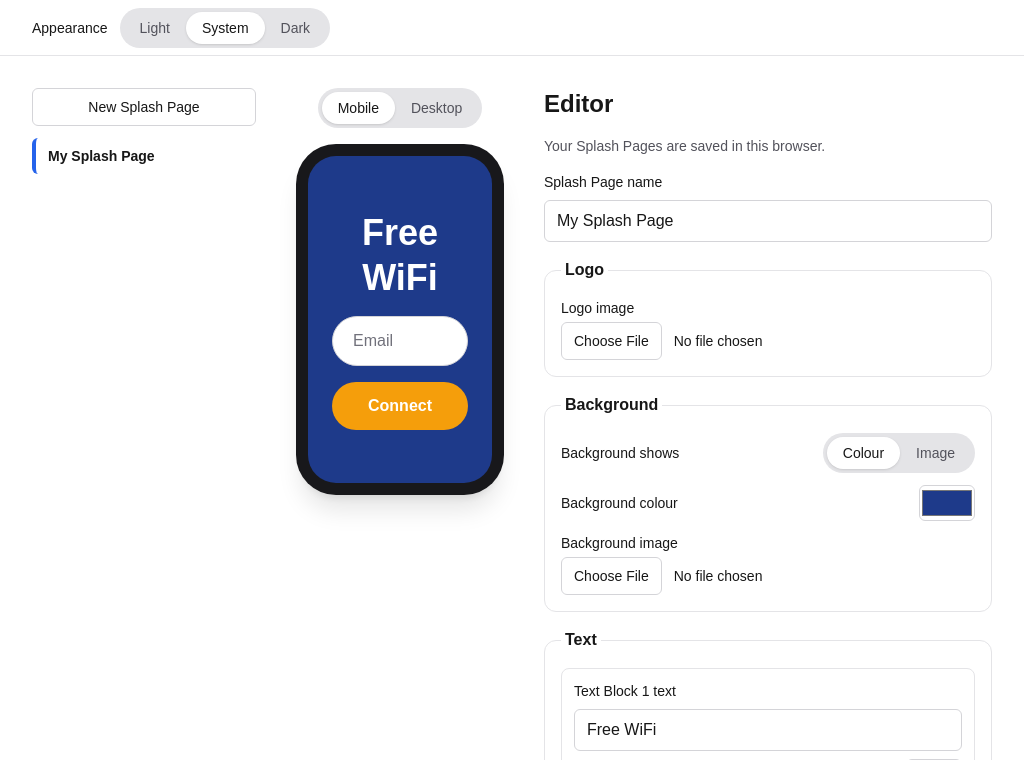
Test case: Captivator: the Library › an edit to a new Splash Page is still there after opening the first Splash Page and then the new one again, and the Device stays the same
The width and height of the screenshot is (1024, 760).
Click the radio button labelled "Desktop". click: [437, 108]
box: [395,92,478,124]
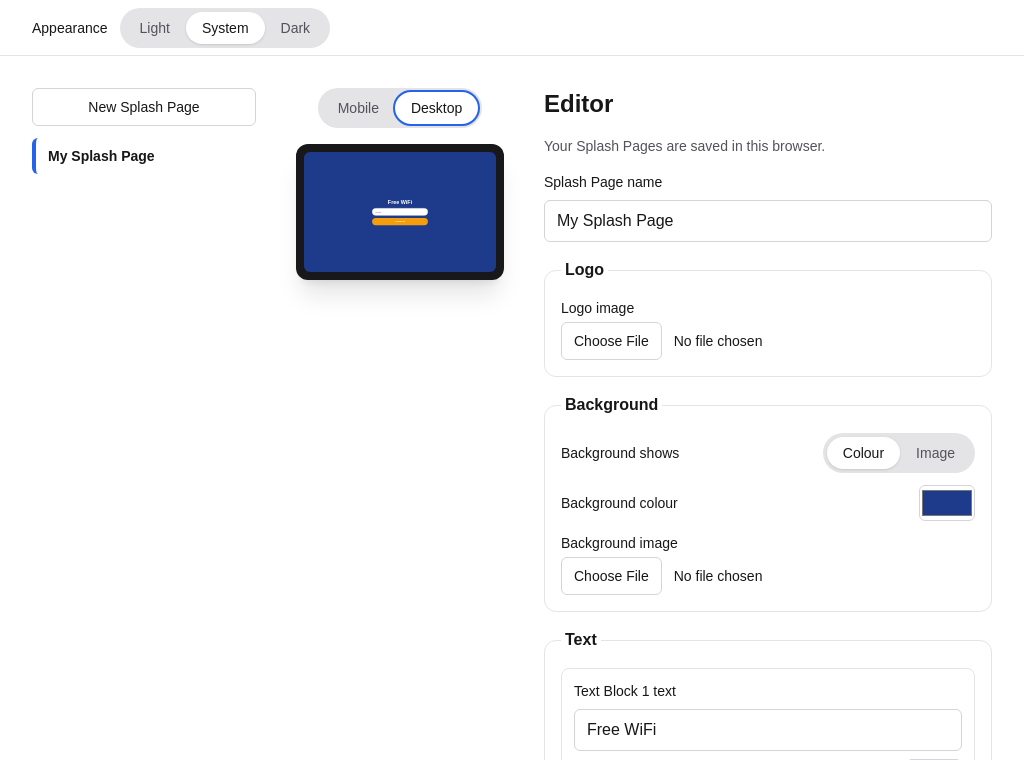
Click the button "New Splash Page". click: [144, 107]
box: [32,88,256,126]
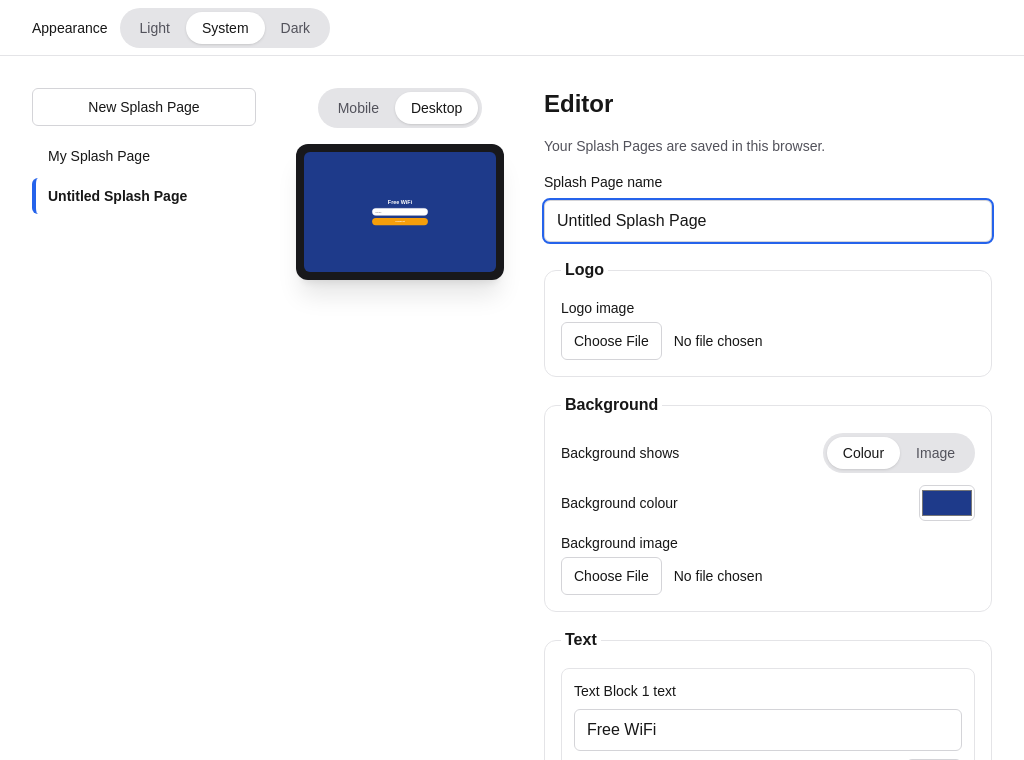
Replace the text in the field labelled "Text Block 1 text" with "Welcome to the Café". click: [768, 730]
box: [574,709,962,751]
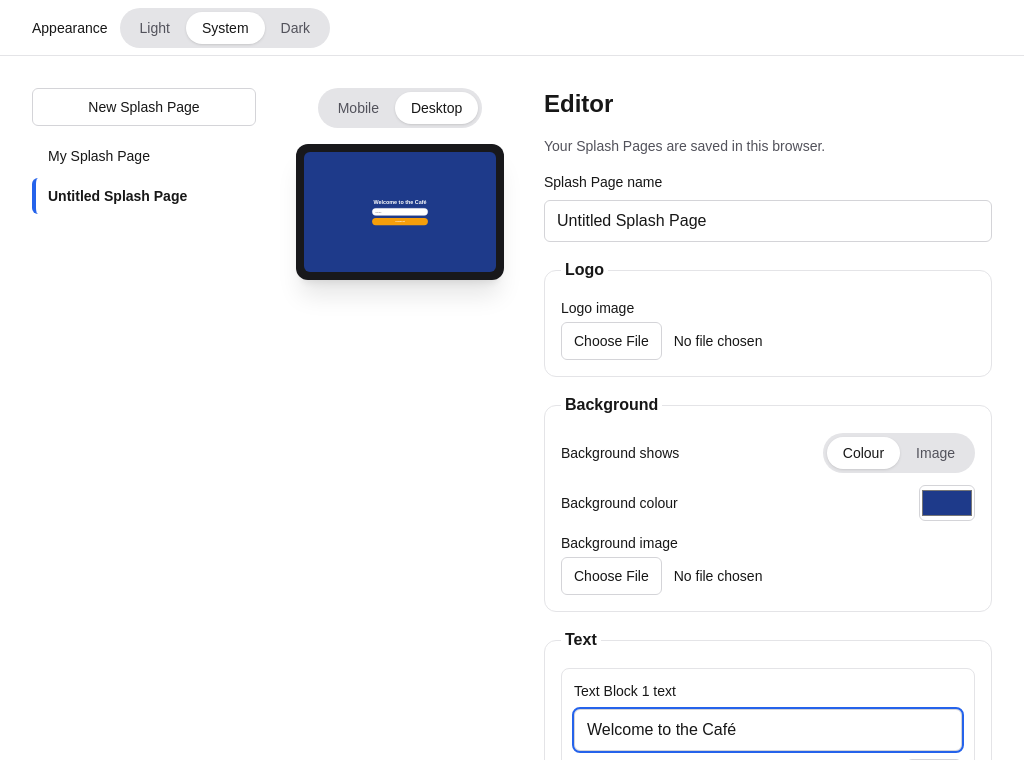
Click the button "My Splash Page". click: [144, 156]
box: [32,138,256,174]
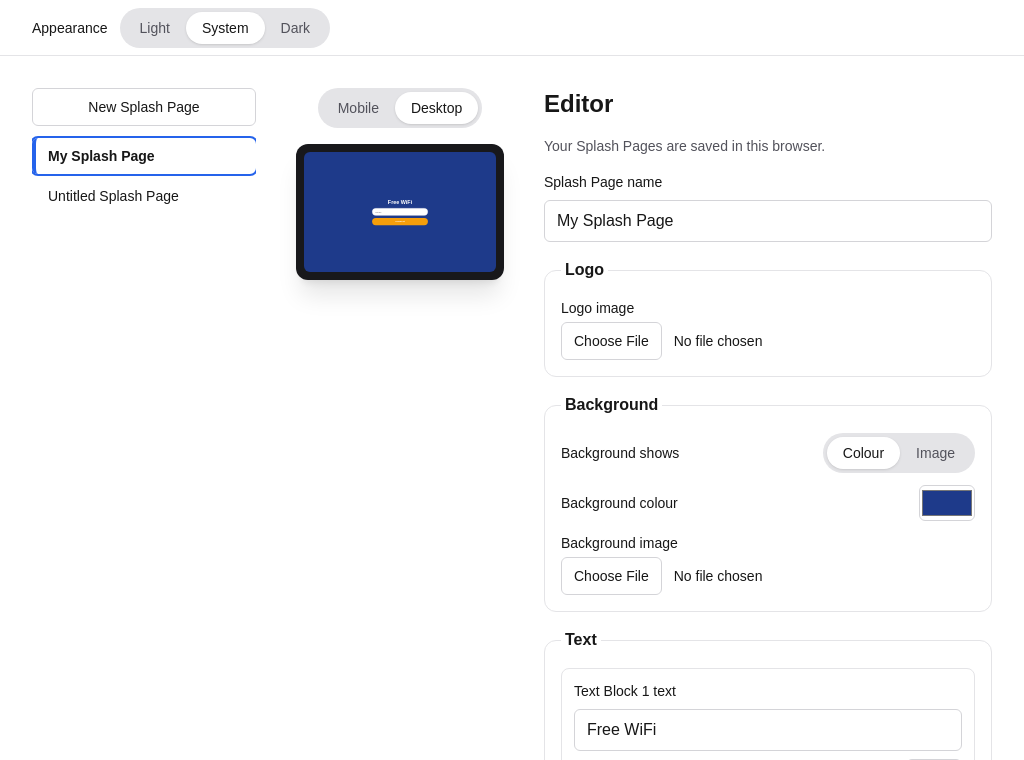
Result: the text "Free WiFi" is shown at [388,199,412,206]
Result: the text "Welcome to the Café" is gone
Result: the field labelled "Text Block 1 text" holds "Free WiFi" at [574,709,962,751]
Click the button "Untitled Splash Page". click: [144, 196]
box: [32,178,256,214]
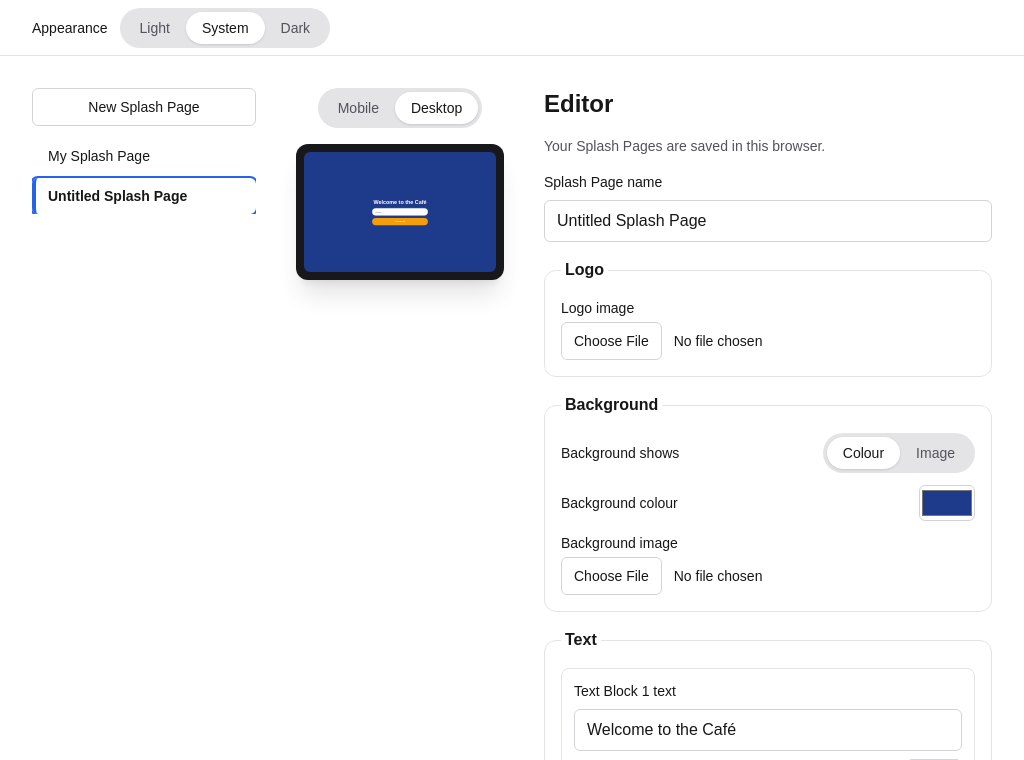
Result: the element named "Desktop Preview" is shown at [296,144,504,280]
Result: the text "Welcome to the Café" is shown at [374,199,426,206]
Result: the text "Free WiFi" is gone
